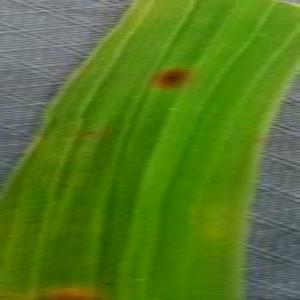0 BrownSpot: (144, 61, 195, 94), (82, 125, 98, 139), (56, 179, 72, 190), (102, 279, 115, 289), (77, 114, 91, 122)
